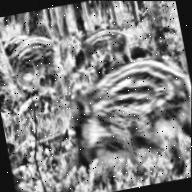boar: (56, 47, 192, 175), (52, 11, 143, 88), (4, 32, 65, 86), (0, 27, 31, 54)
